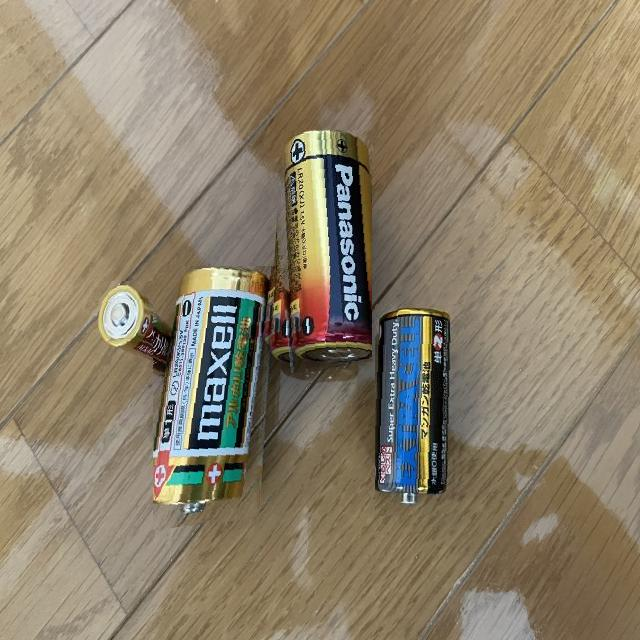battery: (154, 266, 278, 532), (266, 130, 372, 373), (376, 304, 466, 516), (94, 281, 190, 374)
